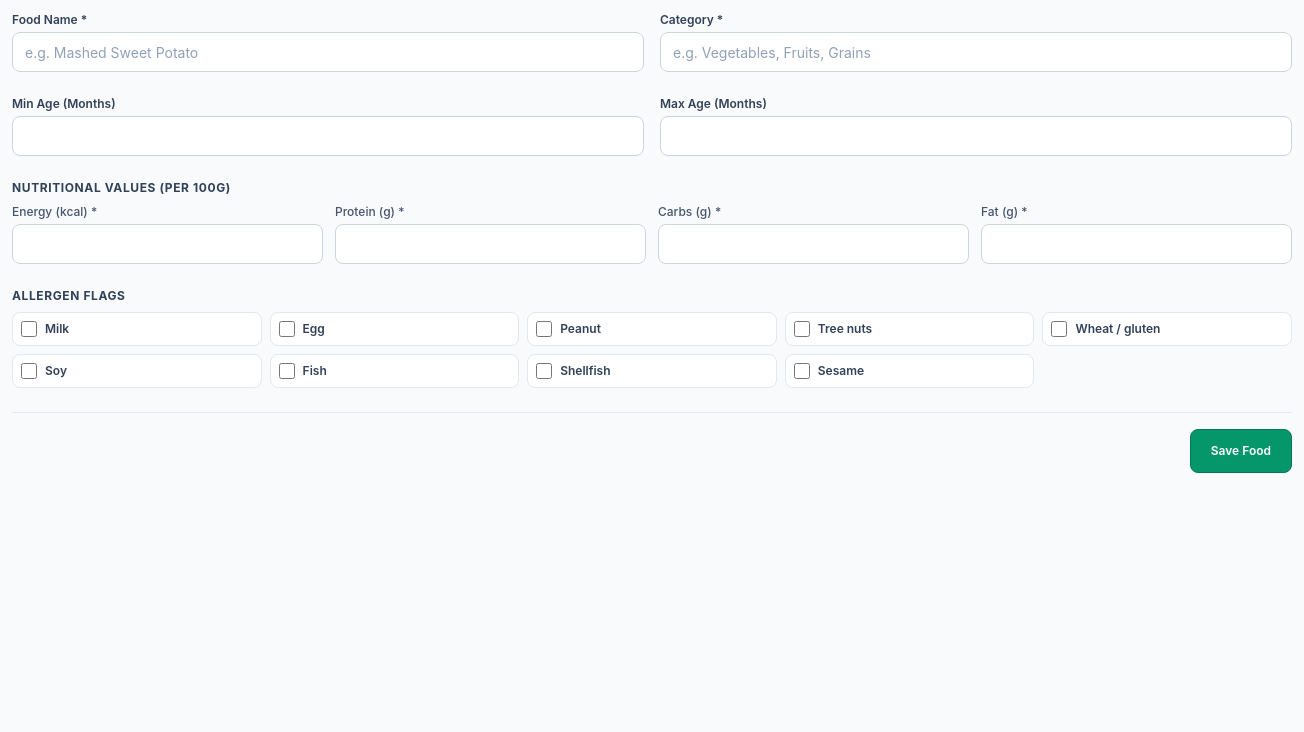
it: FoodForm component › blocks submit and shows validation errors when required fields are empty
Click the button "Save Food" at (1241, 451), box [1190, 429, 1292, 473]
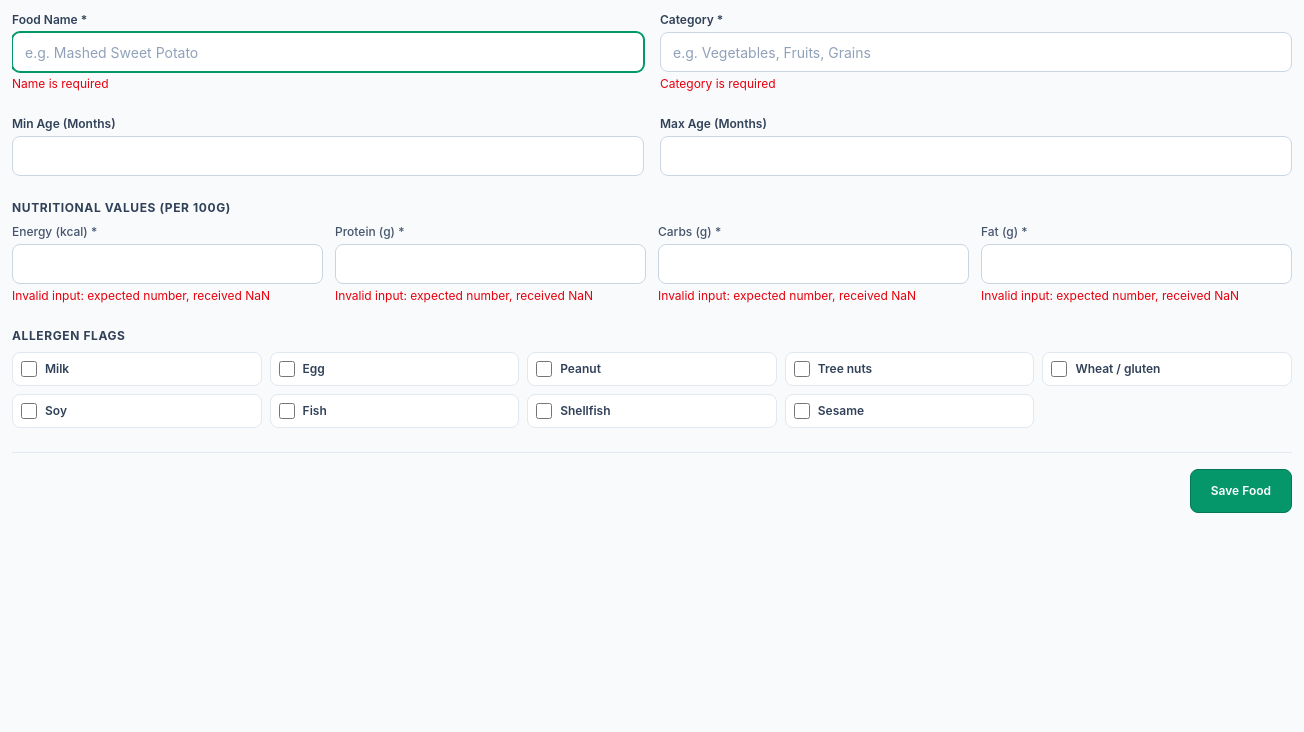
Result: the text "Name is required" is shown at [12, 76, 109, 91]
